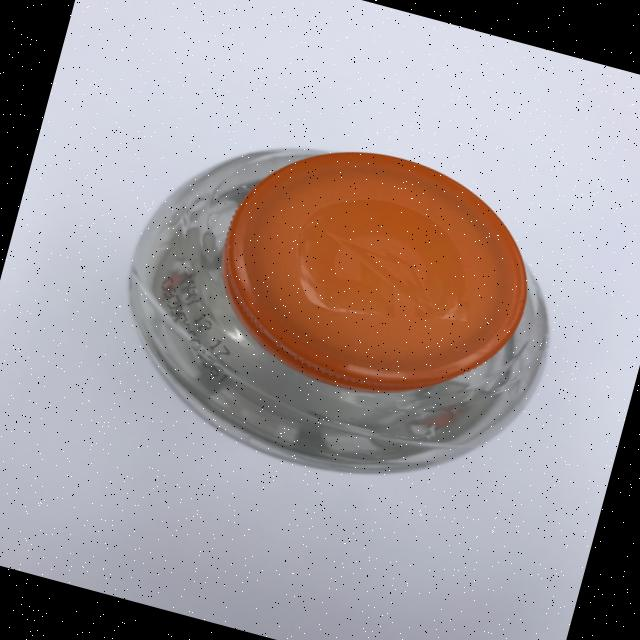plastic: (91, 97, 586, 519)
